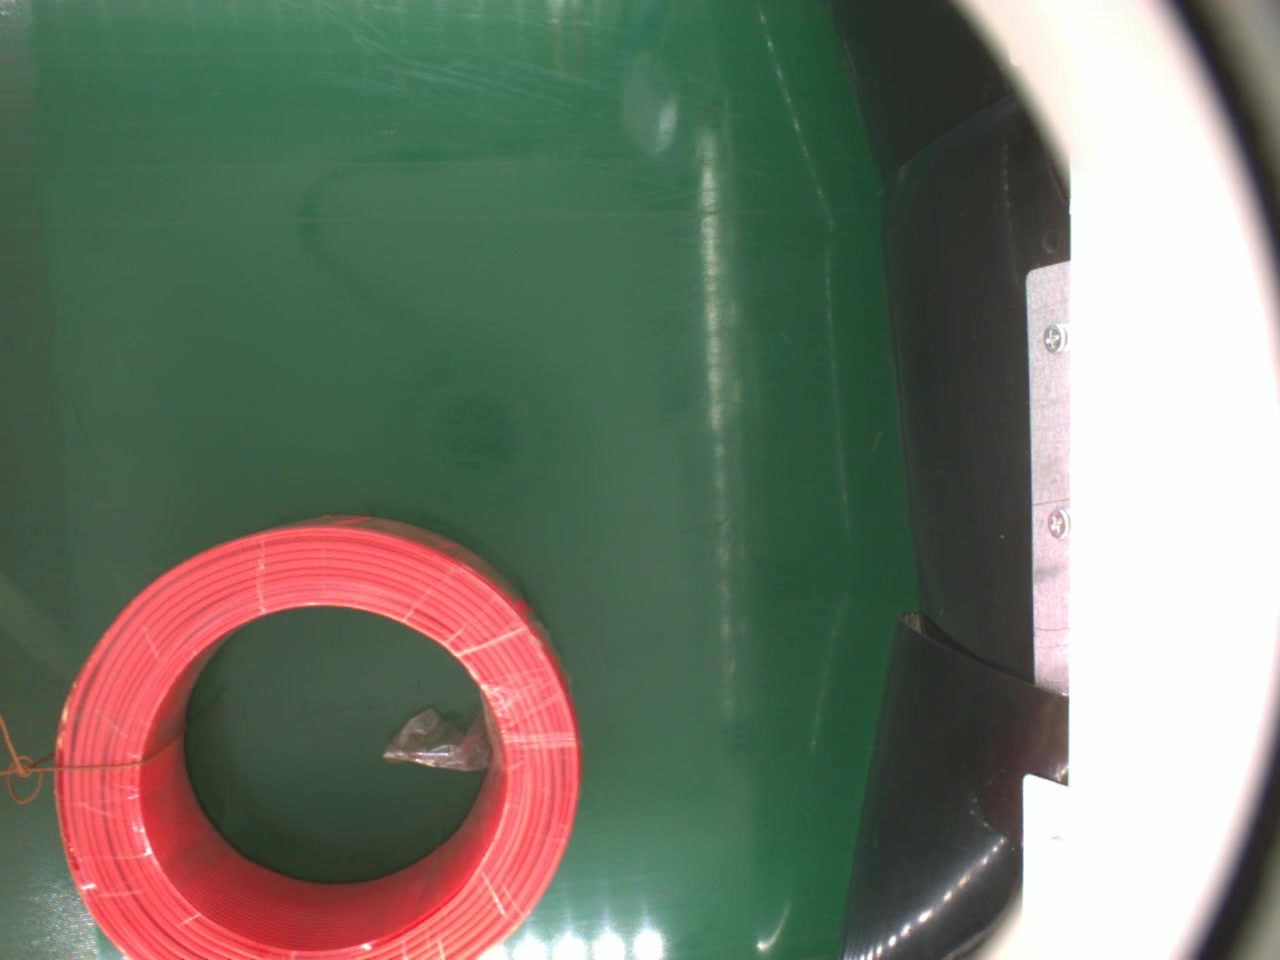red: (48, 513, 580, 960)
